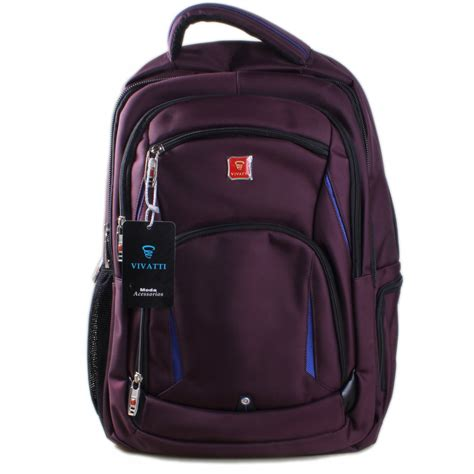nylon: (87, 2, 404, 460)
